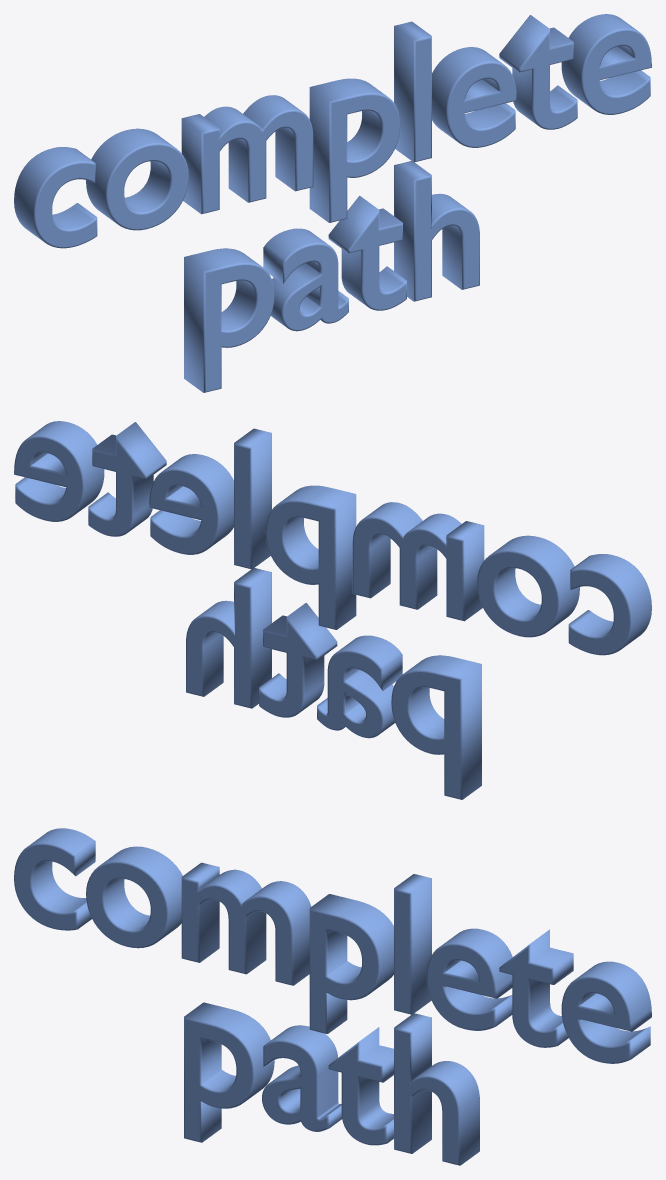
The model's file is hint3.glb.
The picture shows the model from 3 angles, top to bottom: view 1: azimuth 30°, elevation 25°; view 2: azimuth 150°, elevation 25°; view 3: azimuth 330°, elevation 25°; orthographic projection.
Parts seen in each view (by area): view 1: Text; view 2: Text; view 3: Text.
Part boxes in pixels (bbox=[...]): Text: bbox=[14, 14, 651, 392]; Text: bbox=[14, 421, 651, 799]; Text: bbox=[14, 828, 651, 1165].
Size of the model in its own units: 3.72 by 1.73 by 0.22.
